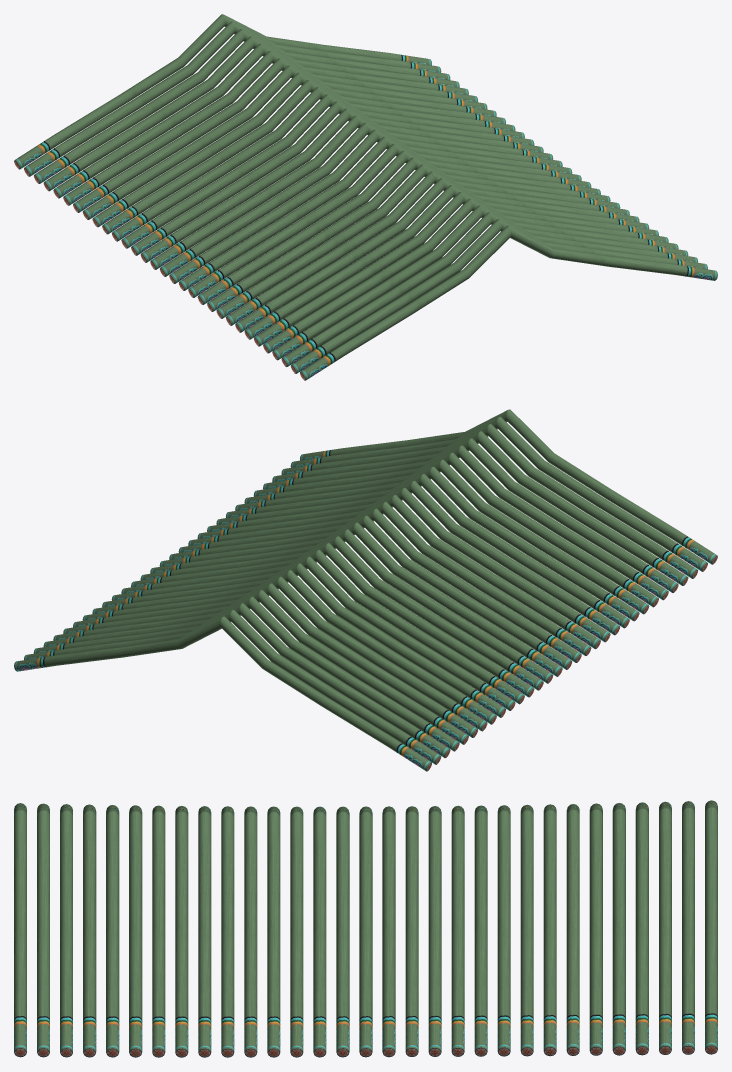
File: SM_SJM_Seokkalae.fbx
3 views of the same model, one above another, from view 1: azimuth 30°, elevation 25°; view 2: azimuth 150°, elevation 25°; view 3: azimuth 270°, elevation 25° (orthographic). The views are drawn at different scales.
Parts seen in each view (by area): view 1: SM_SJM_Seokkalae; view 2: SM_SJM_Seokkalae; view 3: SM_SJM_Seokkalae.
Part boxes in pixels (x1=…): SM_SJM_Seokkalae: x1=14, y1=14, x2=717, y2=380; SM_SJM_Seokkalae: x1=14, y1=409, x2=717, y2=771; SM_SJM_Seokkalae: x1=14, y1=800, x2=717, y2=1057.
Size of the model in its own units: 861 by 1045 by 215.
1 material, 1 textured.
